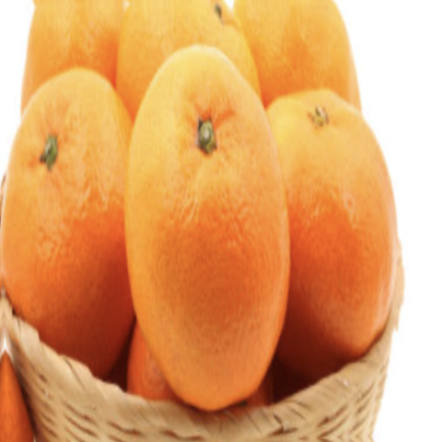orange: (113, 29, 306, 411), (236, 62, 437, 374), (0, 39, 152, 418)
